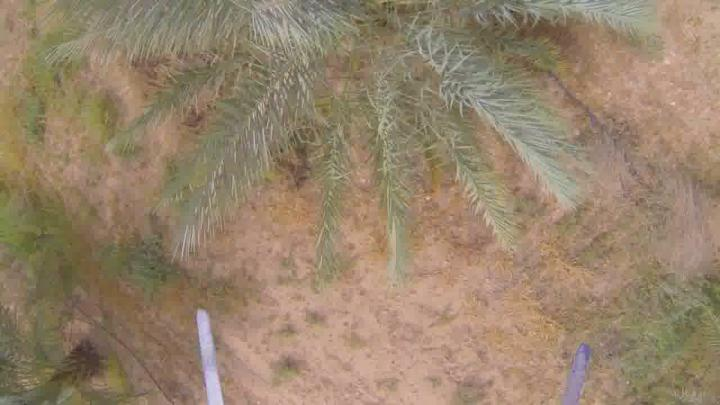Date-Palm-Crown: (214, 0, 536, 168)
